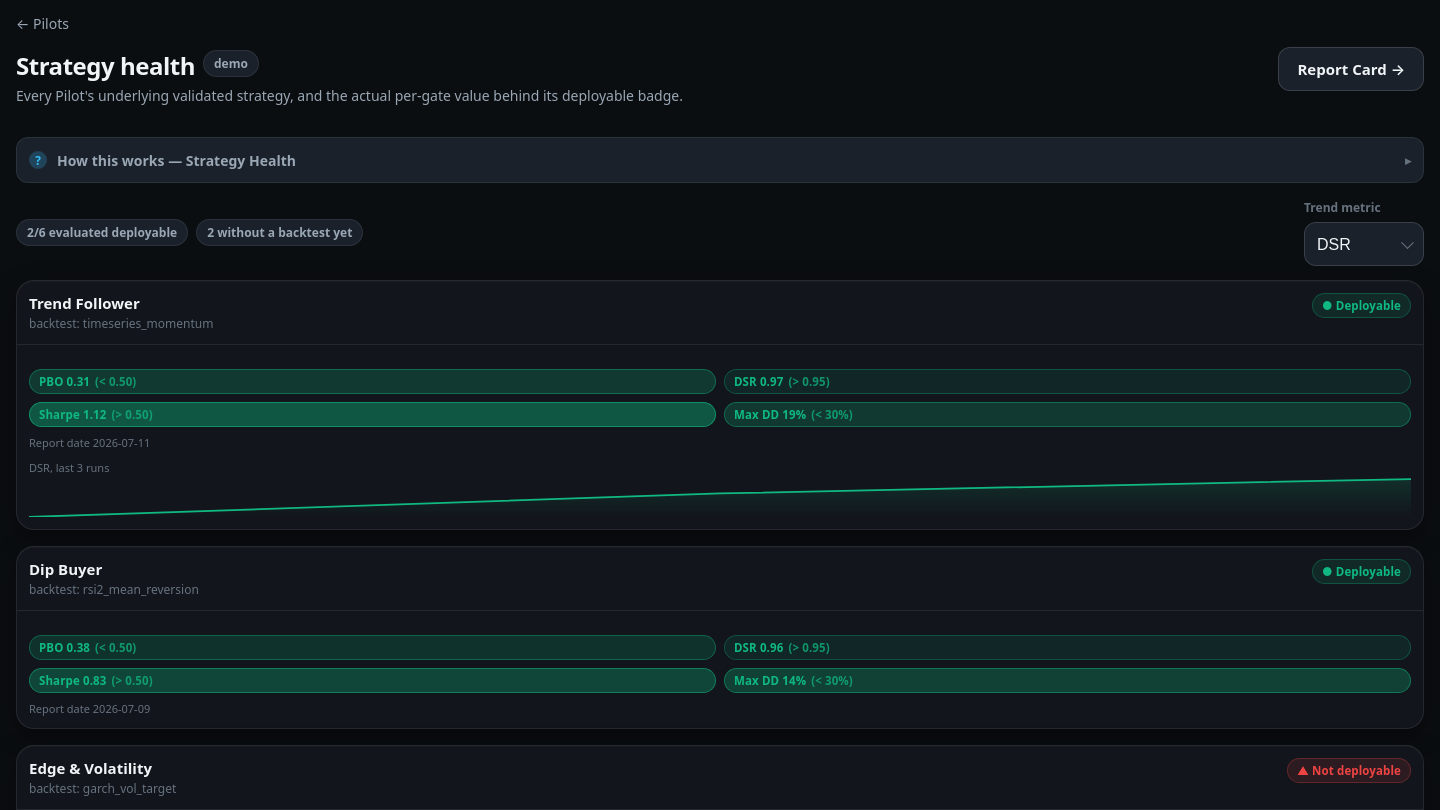
Test: StrategyHealth screen (real mock API) › Trend metric selector (backlog item #7.1) › defaults to DSR and switching the selector re-labels and re-plots every card's sparkline
This screenshot has width=1440, height=810.
expect the text "DSR, last 3 runs" is shown: met, box [29,460,109,475]
Select "PBO" in the dropdown with test id "trend-metric-select" at coordinates (1364, 244), box [1304,222,1424,266]
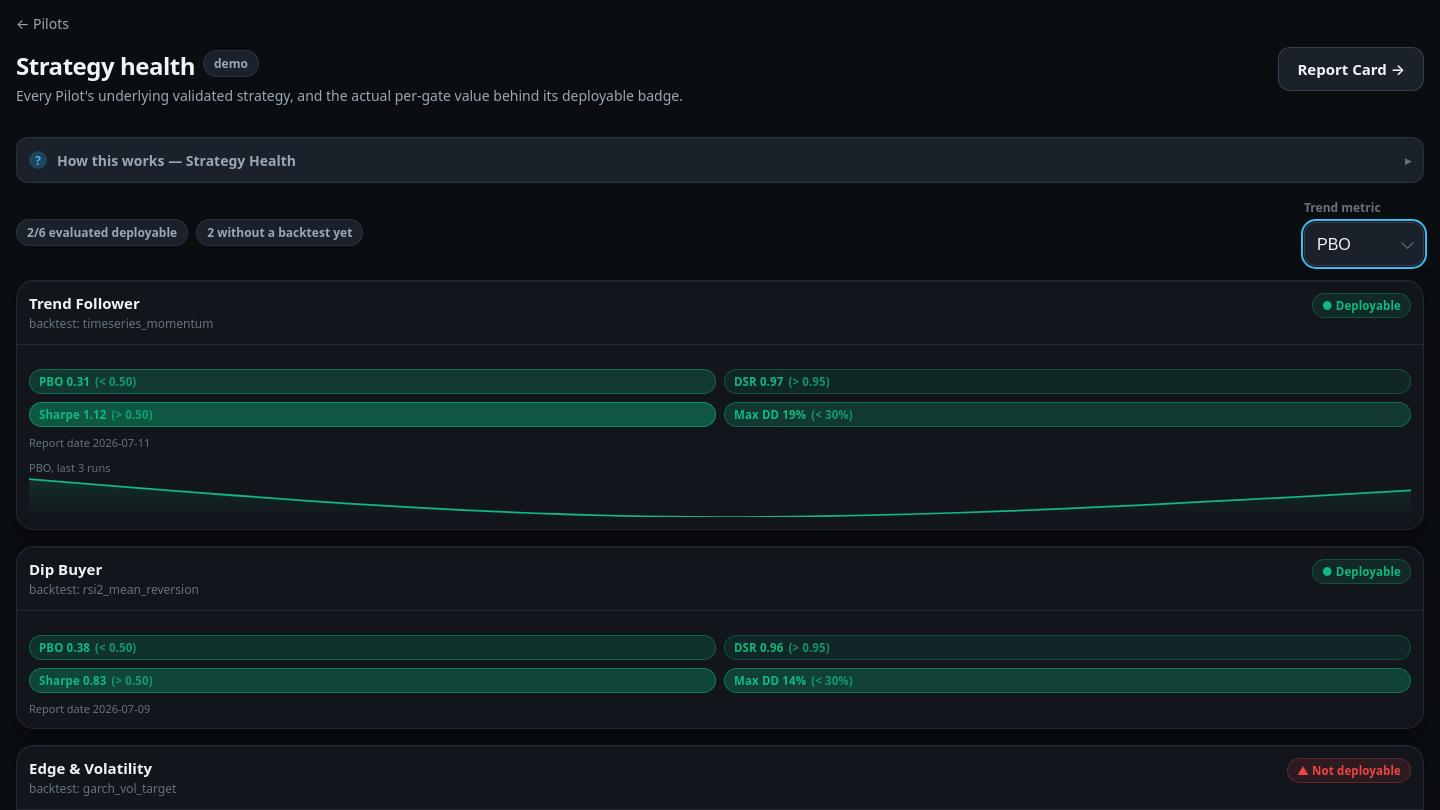
expect the text "PBO, last 3 runs" is shown: met, box [29,460,110,475]
expect the text "DSR, last 3 runs" is gone: met
Select "Sharpe" in the dropdown with test id "trend-metric-select" at coordinates (1364, 244), box [1304,222,1424,266]
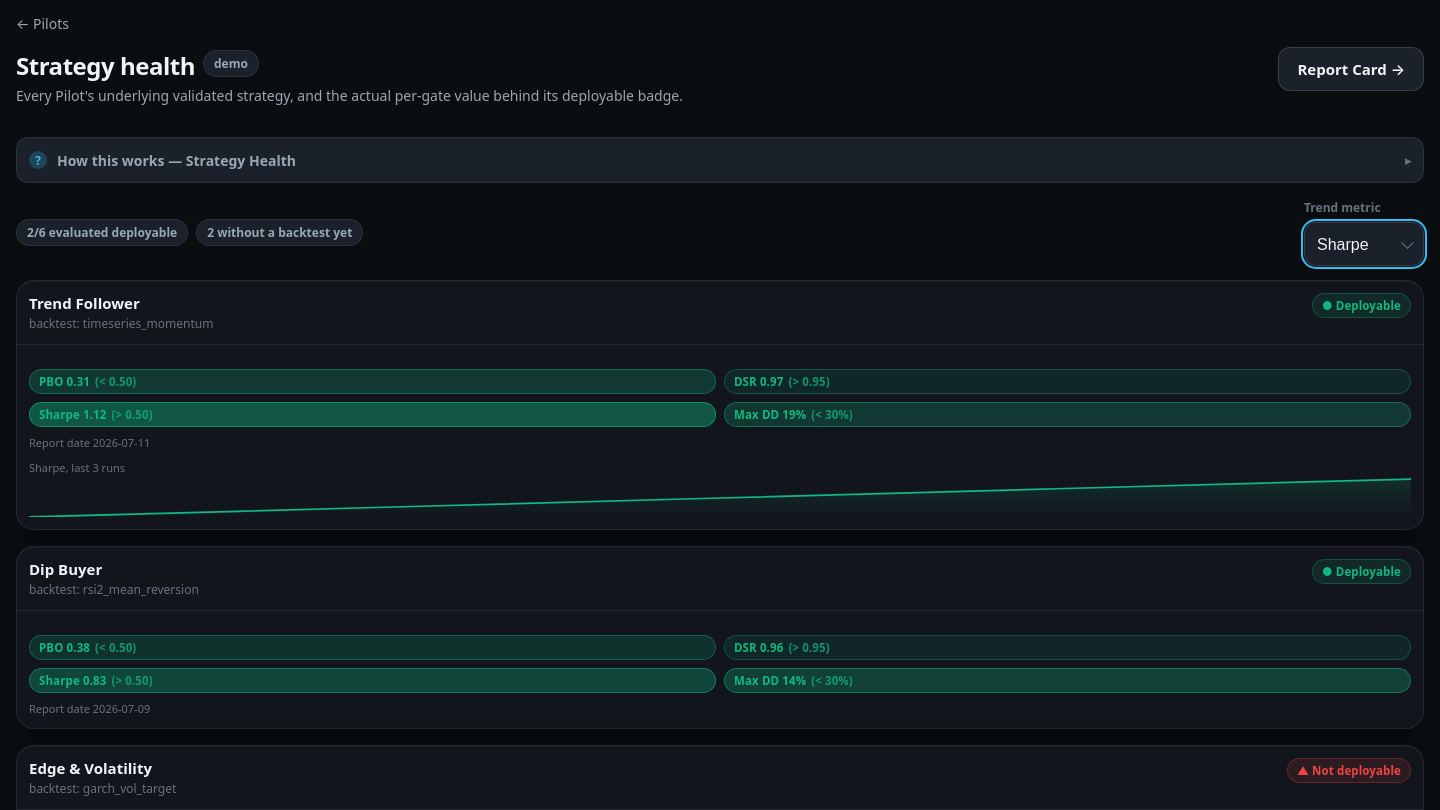
expect the text "Sharpe, last 3 runs" is shown: met, box [29,460,125,475]
Select "Max DD" in the dropdown with test id "trend-metric-select" at coordinates (1364, 244), box [1304,222,1424,266]
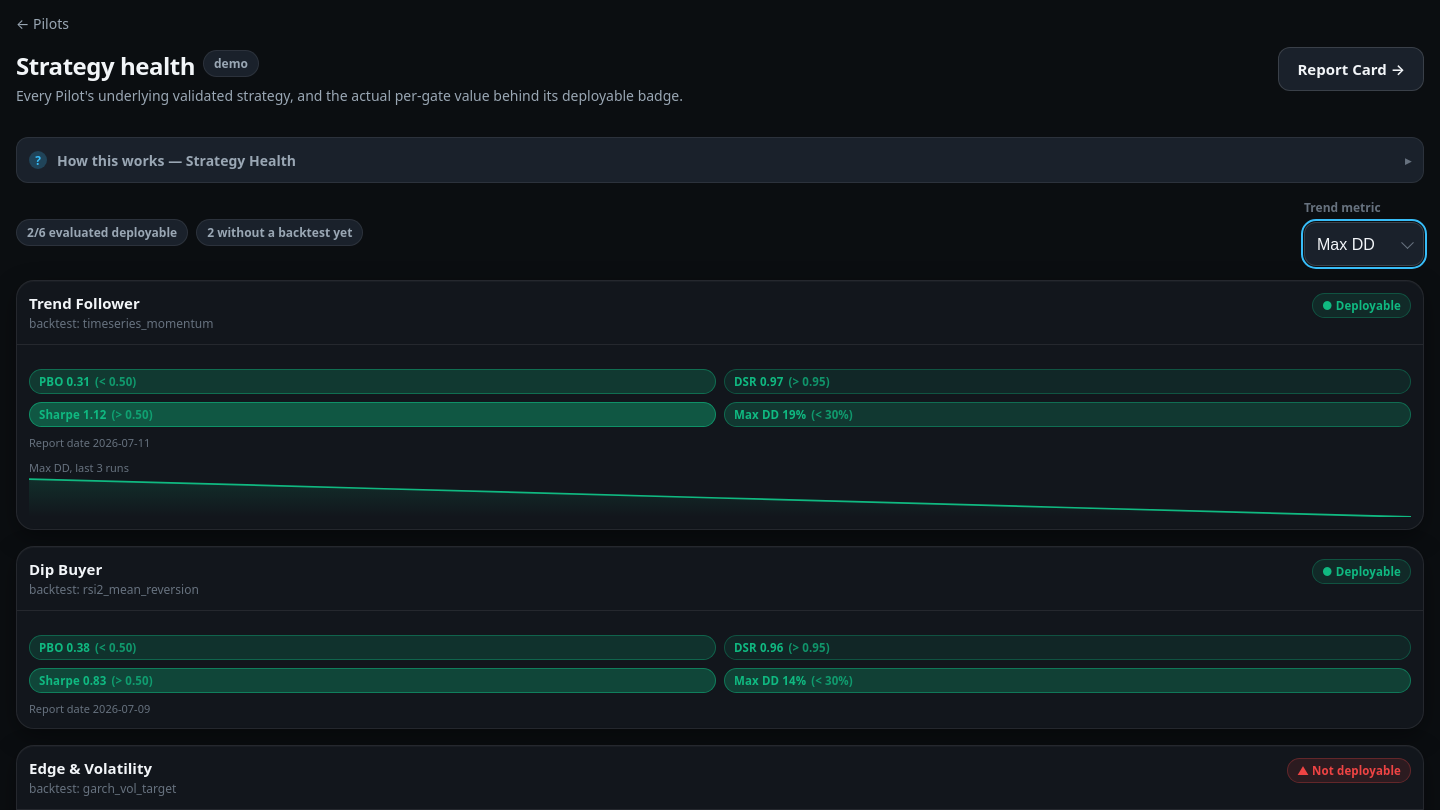
expect the text "Max DD, last 3 runs" is shown: met, box [29,460,129,475]
